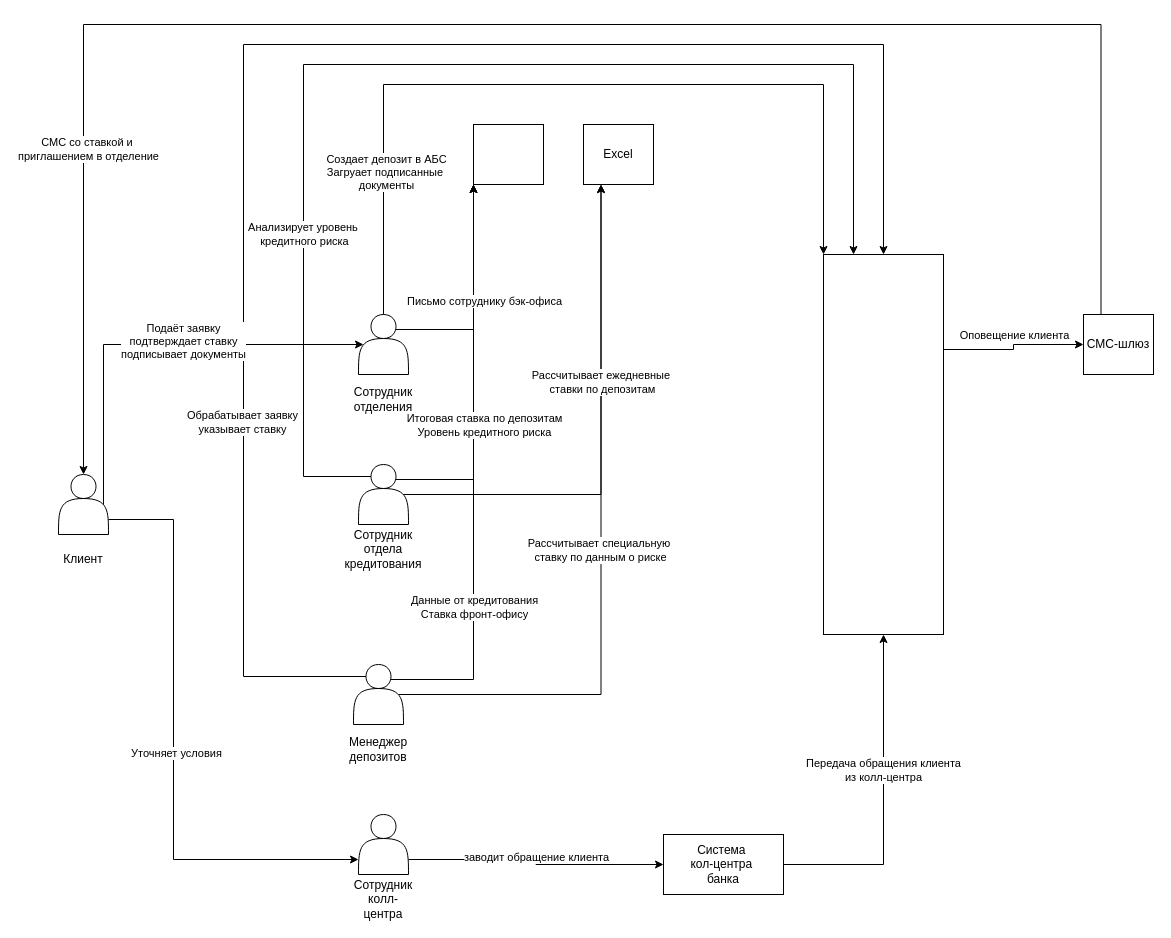
Image size: 1171x938. Some labels were removed from this diagram. Here are the shapes that lost their labels. From the top down, the centre of each, then its label:
At point 508,154: "email".
At point 883,444: "АБС".
